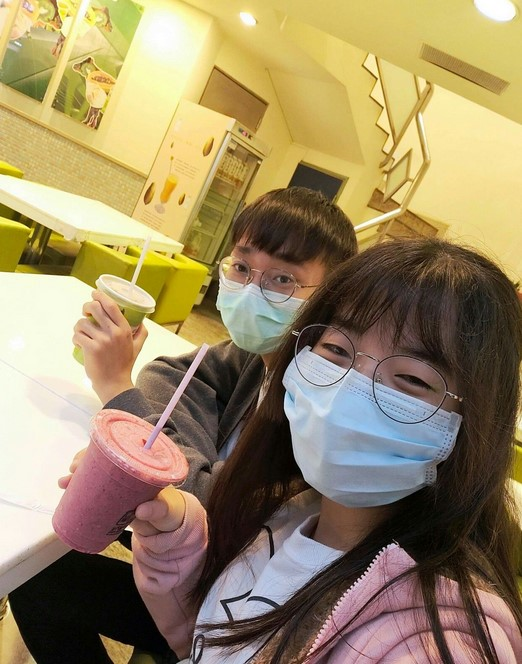face_with_mask: (287, 242, 508, 506), (216, 190, 354, 352)
